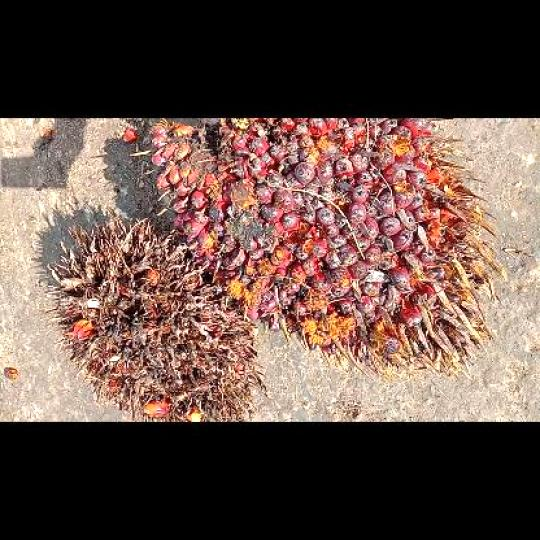masak: (130, 118, 503, 378)
terlalu masak: (43, 213, 266, 420)
